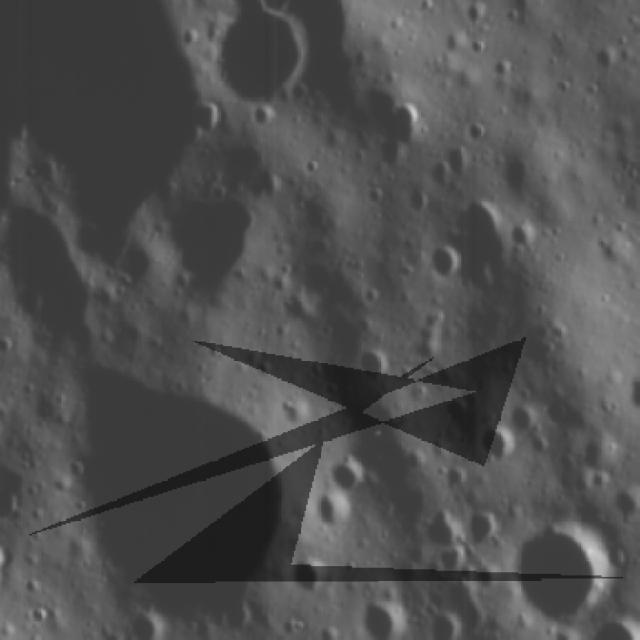crater: (30, 367, 307, 640), (159, 185, 279, 317), (0, 198, 102, 352), (200, 1, 312, 116), (503, 528, 617, 620), (462, 191, 529, 287), (364, 82, 424, 163), (290, 556, 344, 612), (340, 340, 398, 391), (424, 146, 479, 192), (362, 589, 408, 640), (477, 426, 526, 469), (430, 240, 473, 288), (325, 452, 367, 501), (580, 434, 617, 480), (433, 392, 473, 433), (415, 606, 462, 640), (503, 404, 545, 442), (580, 614, 640, 640), (607, 478, 640, 524), (0, 480, 26, 531), (469, 508, 503, 546), (122, 614, 162, 640), (0, 542, 15, 605)
